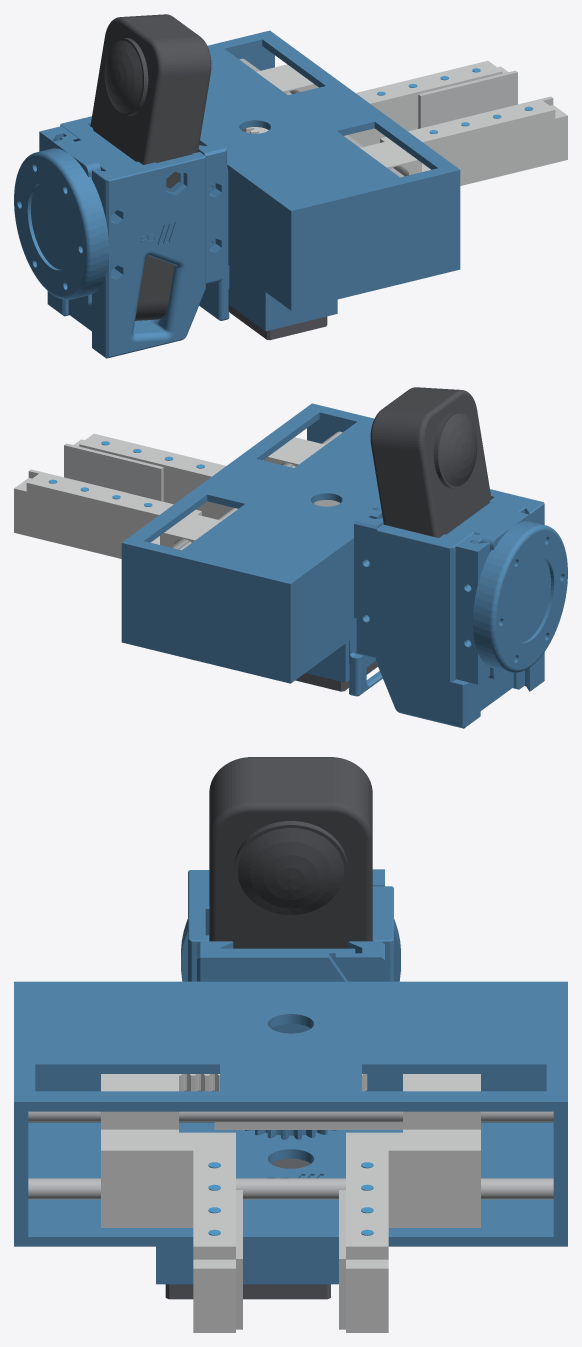
Rendered from parallel_openarm.glb.
The picture shows the model from 3 angles, top to bottom: view 1: azimuth 30°, elevation 25°; view 2: azimuth 150°, elevation 25°; view 3: azimuth 270°, elevation 25°; orthographic projection. The views are drawn at different scales.
Parts seen in each view (by area): view 1: parallel_base_sa, x5_frame, insta360_x5_envelope, openarm_adapter, parallel_finger_right, parallel_finger_left, parallel_pad_left, parallel_carriage_right, parallel_carriage_left, servo_envelope, x5_clip_b; view 2: parallel_base_sa, x5_frame, insta360_x5_envelope, openarm_adapter, parallel_finger_left, parallel_finger_right, x5_clip_b, parallel_pad_right, chopstick_clip_sa, parallel_carriage_left, parallel_carriage_right, servo_envelope; view 3: parallel_base_sa, insta360_x5_envelope, parallel_finger_left, parallel_finger_right, parallel_rod_bottom, parallel_rod_top, parallel_carriage_left, parallel_carriage_right, x5_frame, servo_envelope, chopstick_clip_sa, parallel_pad_left (+2 smaller).
Part boxes in pixels (x1,y1,x2,y2): parallel_base_sa: (198,30,460,331); x5_frame: (47,116,205,358); insta360_x5_envelope: (90,14,211,320); openarm_adapter: (14,138,108,307); parallel_finger_right: (380,99,567,185); parallel_finger_left: (318,61,508,146); parallel_pad_left: (418,70,517,128); parallel_carriage_right: (360,140,421,176); parallel_carriage_left: (241,64,318,133); servo_envelope: (228,304,327,340); x5_clip_b: (39,126,78,151); parallel_base_sa: (121,403,382,696); x5_frame: (376,489,544,728); insta360_x5_envelope: (370,387,491,537); openarm_adapter: (473,511,567,679); parallel_finger_left: (14,472,201,558); parallel_finger_right: (74,433,263,519); x5_clip_b: (455,534,489,684); parallel_pad_right: (64,443,163,501); chopstick_clip_sa: (354,509,383,658); parallel_carriage_left: (160,513,221,548); parallel_carriage_right: (263,437,340,506); servo_envelope: (295,661,377,691); parallel_base_sa: (14,941,567,1284); insta360_x5_envelope: (209,757,372,948); parallel_finger_left: (346,1129,480,1332); parallel_finger_right: (101,1129,235,1332); parallel_rod_bottom: (28,1178,553,1199); parallel_rod_top: (28,1111,553,1122); parallel_carriage_left: (214,1074,480,1129); parallel_carriage_right: (101,1074,367,1129); x5_frame: (188,870,393,981); servo_envelope: (165,1159,330,1299); chopstick_clip_sa: (335,941,384,981); parallel_pad_left: (339,1190,345,1329).
Bounding box in the file's own units: 0.229 × 0.1361 × 0.156.
